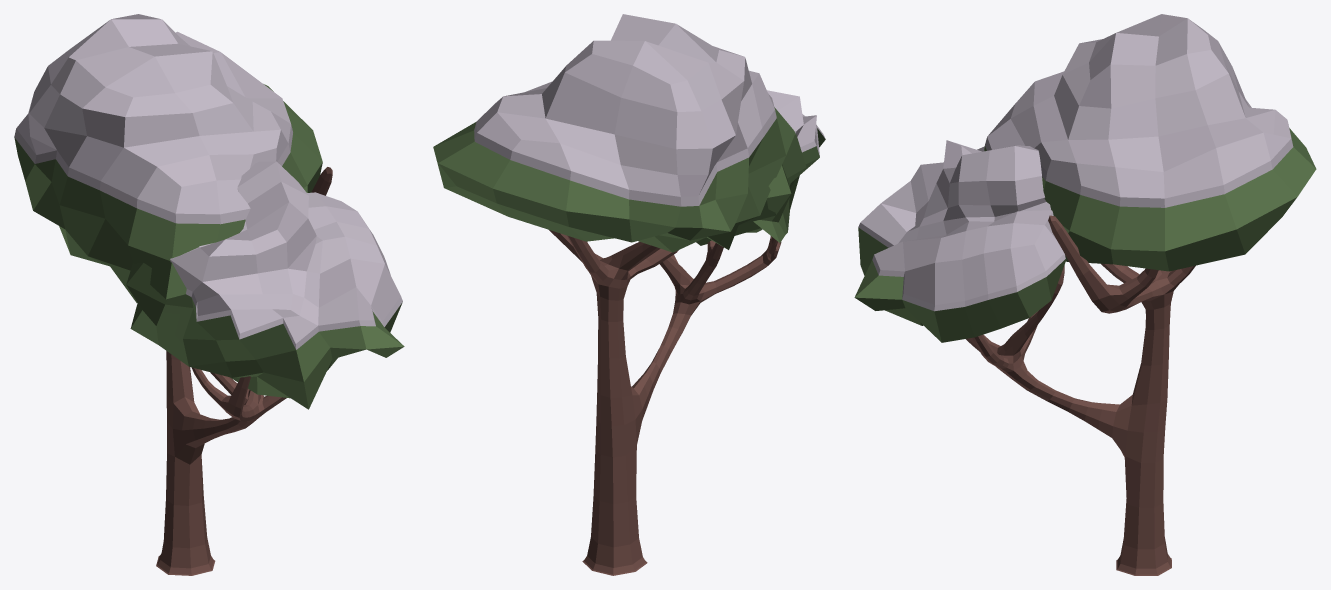
File: commontree_snow_2.glb
3 views of the same model, side by side, from view 1: azimuth 30°, elevation 25°; view 2: azimuth 150°, elevation 25°; view 3: azimuth 270°, elevation 25° (orthographic). The views are drawn at different scales.
Parts seen in each view (by area): view 1: CommonTree_Snow_2; view 2: CommonTree_Snow_2; view 3: CommonTree_Snow_2.
Part boxes in pixels (<box>): CommonTree_Snow_2: <box>14,14,404,575</box>; CommonTree_Snow_2: <box>433,14,825,575</box>; CommonTree_Snow_2: <box>854,14,1316,575</box>.
Bounding box in the file's own units: 1.66 × 3.16 × 2.54.
